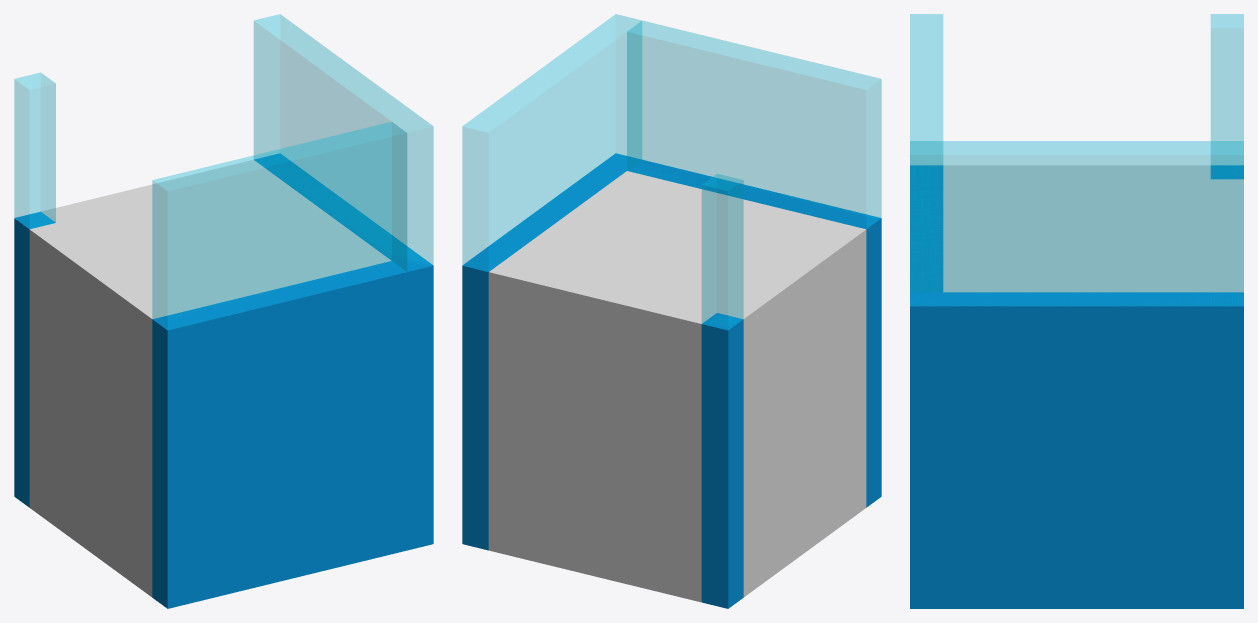
3 renders of one model, left to right at view 1: azimuth 30°, elevation 25°; view 2: azimuth 150°, elevation 25°; view 3: azimuth 270°, elevation 25°, orthographic. The views are drawn at different scales.
Visible parts, largest first — view 1: 立方体.004, 立方体, 立方体.002, 立方体.005; view 2: 立方体.004, 立方体, 立方体.002, 立方体.005; view 3: 立方体.004, 立方体.002, 立方体, 立方体.005.
Boxes of the visible parts, x1,y1,x2,y2 form: 立方体.004: (14, 153, 433, 608); 立方体: (152, 122, 406, 329); 立方体.002: (254, 14, 433, 271); 立方体.005: (14, 72, 55, 228); 立方体.004: (462, 153, 881, 608); 立方体: (627, 21, 881, 228); 立方体.002: (462, 14, 641, 271); 立方体.005: (702, 174, 743, 329); 立方体.004: (910, 165, 1243, 608); 立方体.002: (910, 141, 1243, 305); 立方体: (910, 14, 942, 291); 立方体.005: (1211, 14, 1243, 178).
Size of the model in its own units: 2000 by 3000 by 2000.
